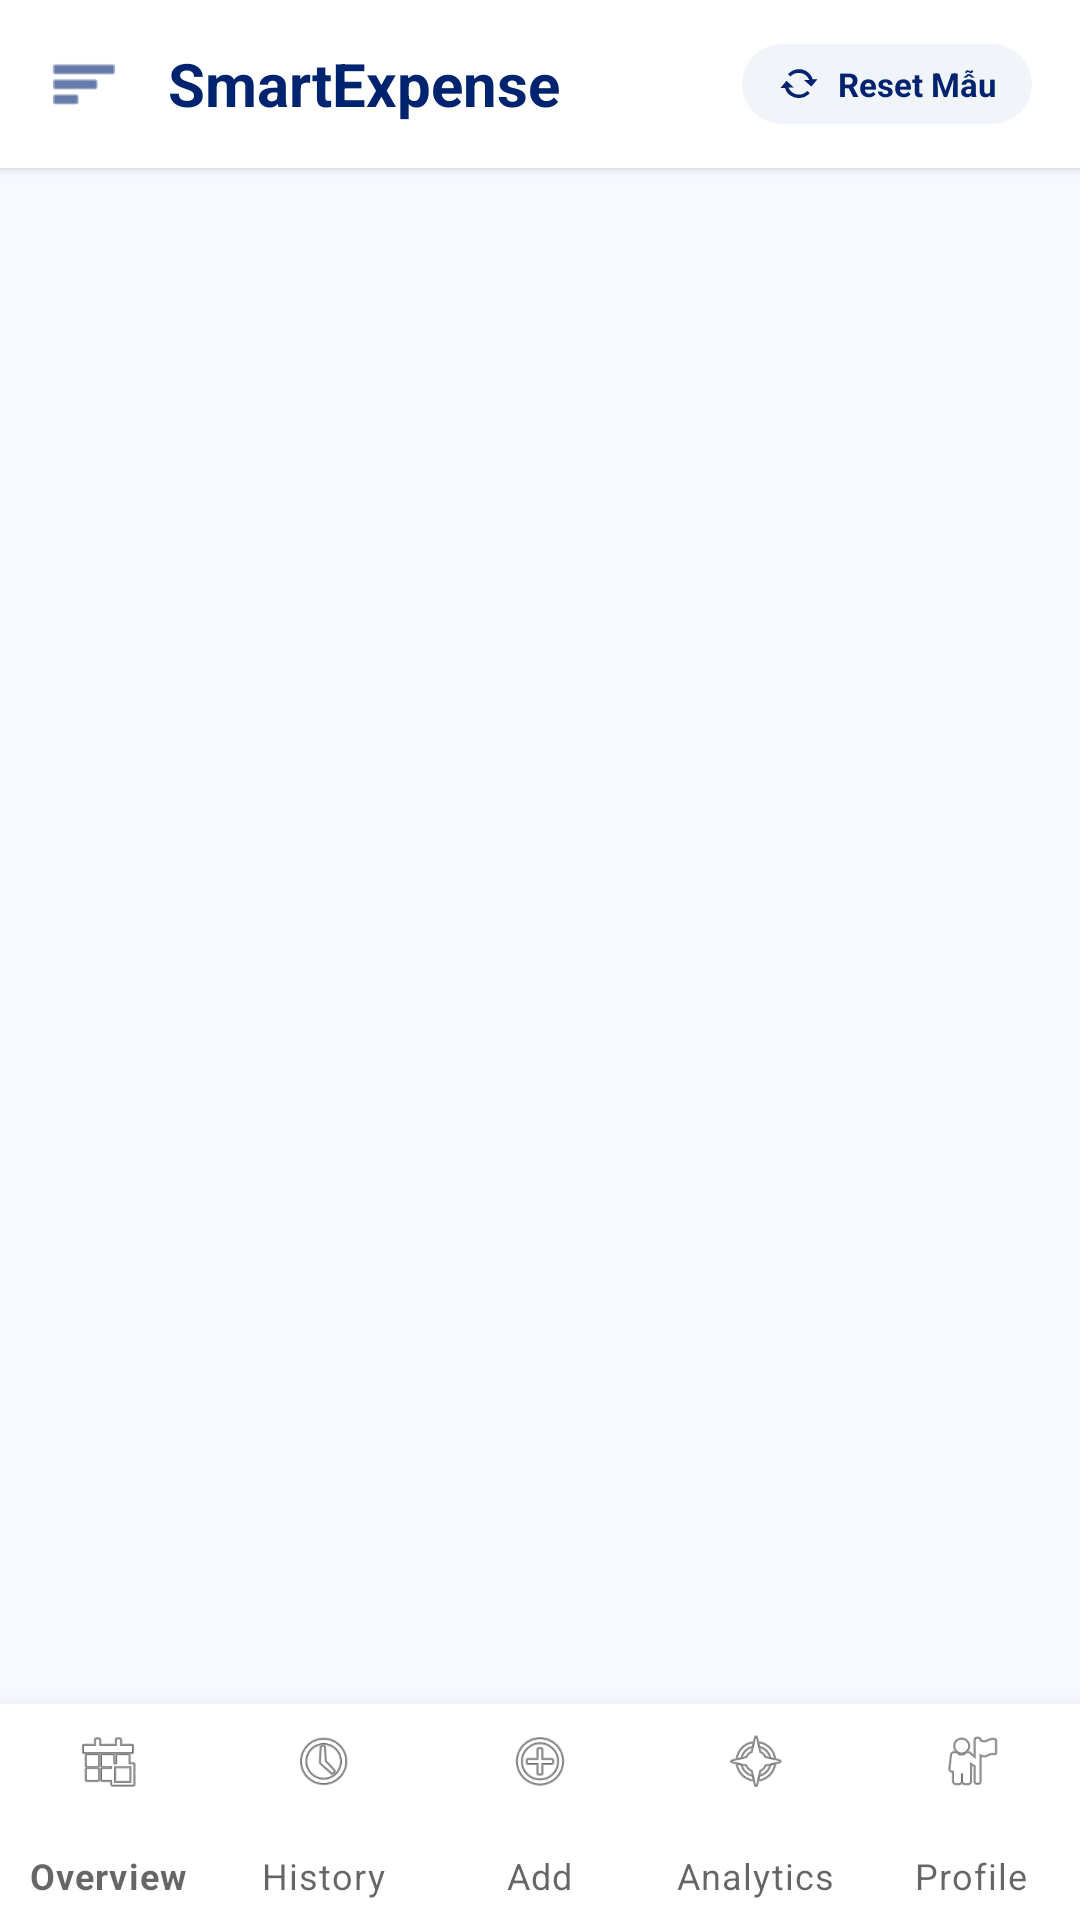

Point at icon controls on the screen. Image size 1080w x 1920h, points as point (x, y).
sort by size: point (84, 84)
sync: point (799, 83)
